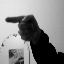g: (2, 13, 40, 42)
